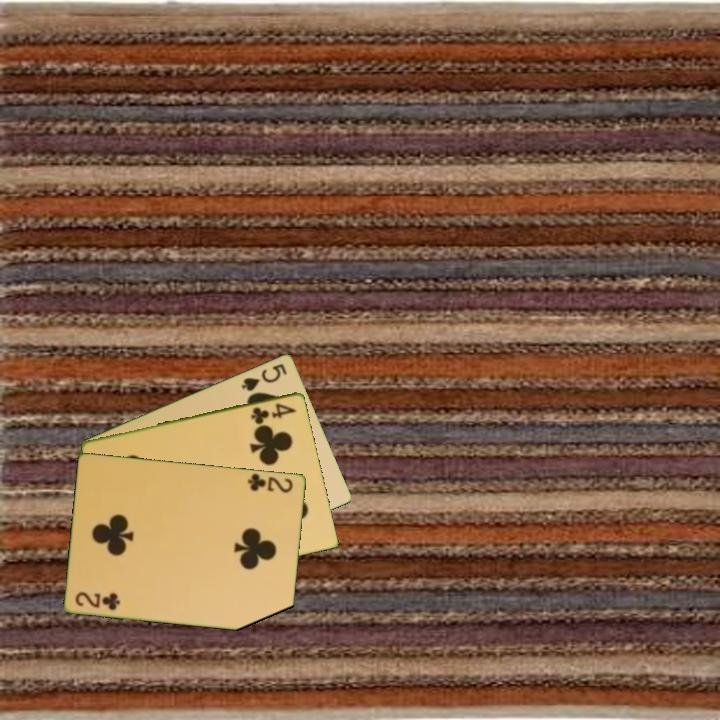2c: (244, 470, 296, 495), (72, 588, 123, 613)
4c: (248, 399, 299, 426)
5s: (238, 360, 290, 394)
